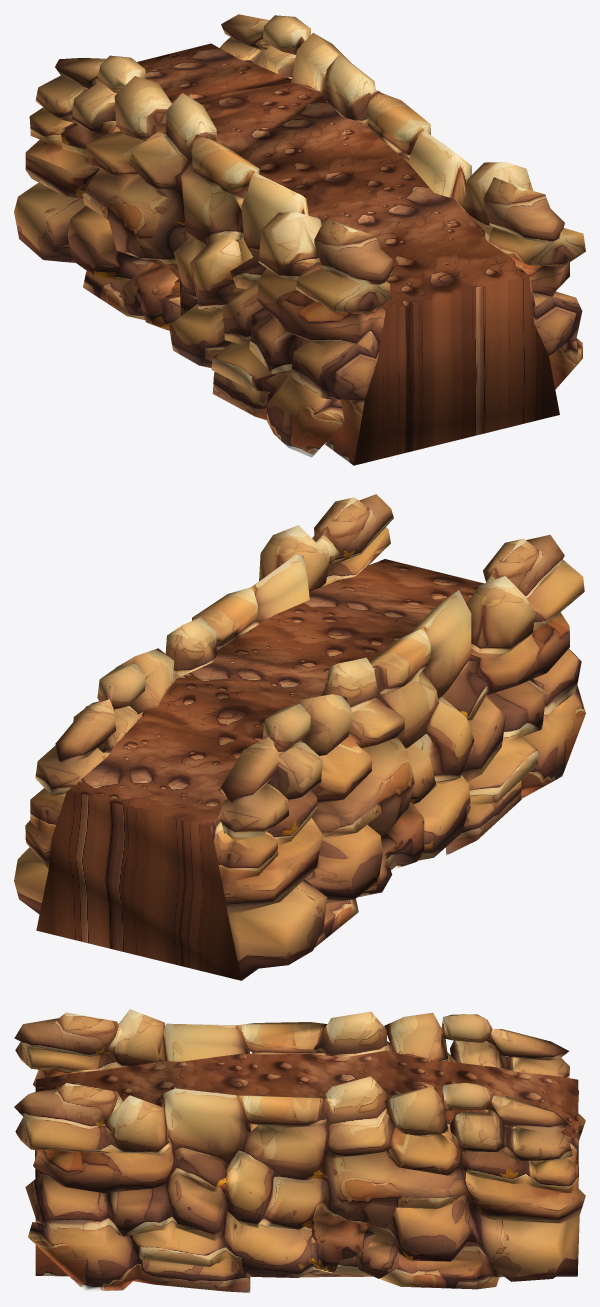
Rendered from wall4.fbx.
3 renders of one model, top to bottom at view 1: azimuth 30°, elevation 25°; view 2: azimuth 150°, elevation 25°; view 3: azimuth 270°, elevation 25°, orthographic. The views are drawn at different scales.
Parts seen in each view (by area): view 1: Plane; view 2: Plane; view 3: Plane.
Part boxes in pixels (x1,y1,x2,y2): Plane: (14,14,585,465); Plane: (14,494,585,980); Plane: (14,1009,585,1292).
Bounding box in the file's own units: 372 × 296 × 749.
Materials: 2 (2 with a texture image).
